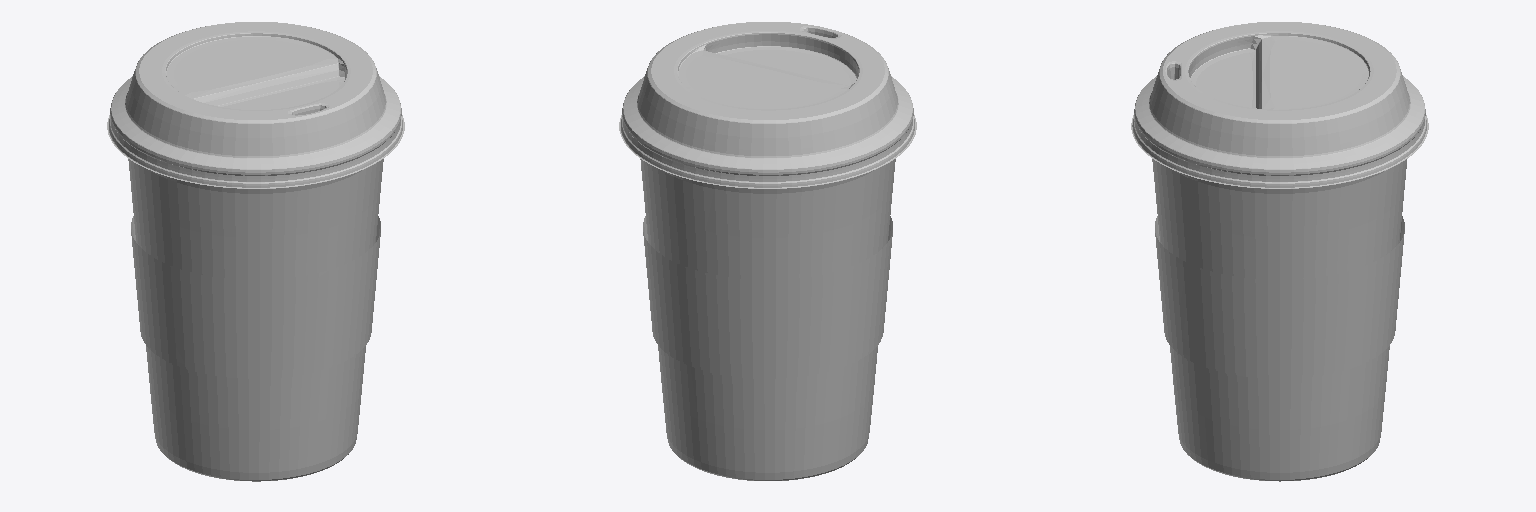
File: MUG.obj
3 renders of one model, left to right at view 1: azimuth 30°, elevation 25°; view 2: azimuth 150°, elevation 25°; view 3: azimuth 270°, elevation 25°, orthographic.
Visible parts, largest first — view 1: Mug_Cylinder; view 2: Mug_Cylinder; view 3: Mug_Cylinder.
Part boxes in pixels (left/top/right/bottom): Mug_Cylinder: left=107, top=22, right=404, bottom=481; Mug_Cylinder: left=619, top=22, right=916, bottom=480; Mug_Cylinder: left=1131, top=22, right=1428, bottom=481.
Bounding box in the file's own units: 0.1054 × 0.1445 × 0.1054.